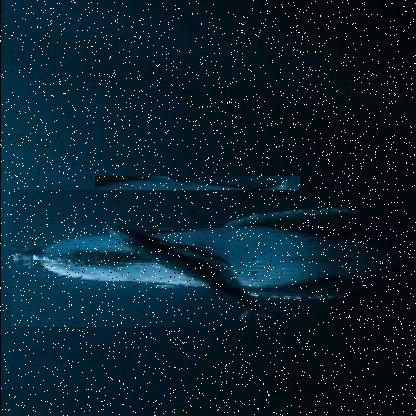blue_whale: (10, 189, 399, 327), (94, 175, 300, 295)
